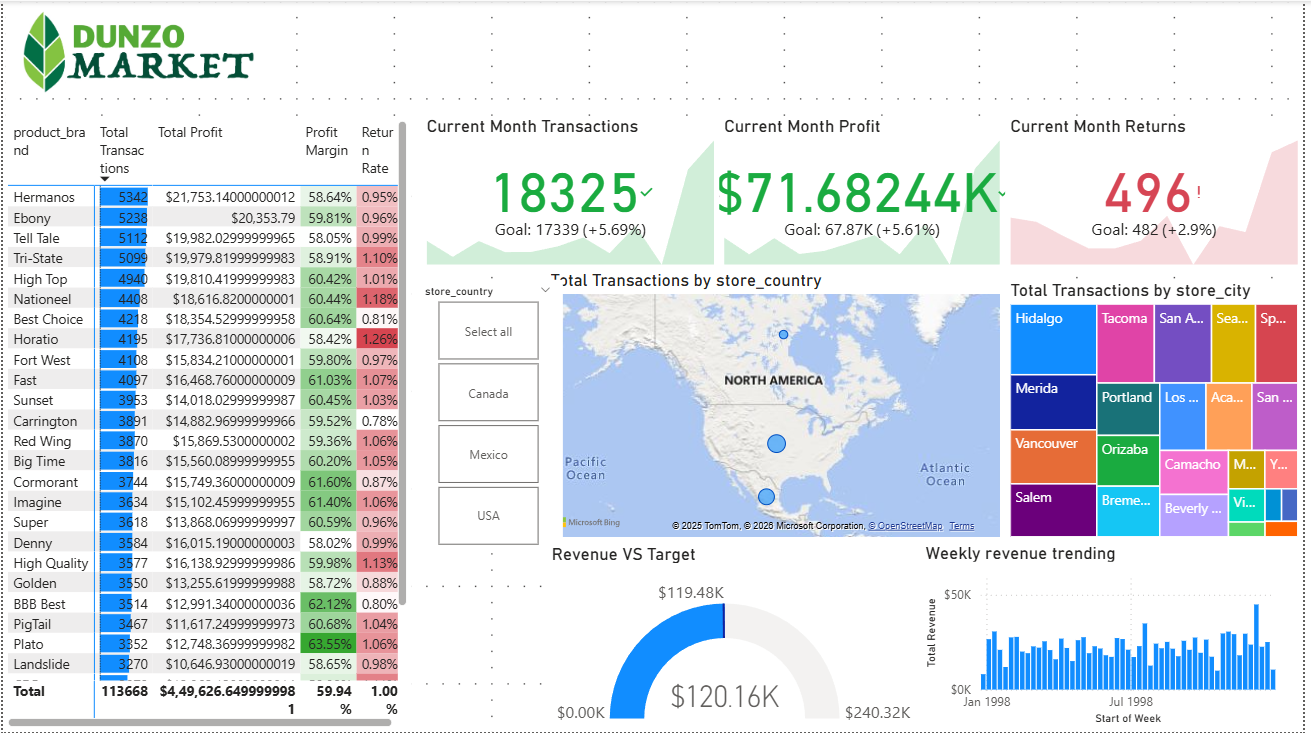

The page's visual inventory and layout, read from the dashboard file:
{"tool":"powerbi","page":{"name":"Topline Performance","canvas":[1280,720],"ordinal":0},"visuals":[{"type":"pivotTable","fields":{"Values":["Transactions_Data.Total Transactions","Transactions_Data.Total Profit","Transactions_Data.Profit Margin","Returns_Data.Return Rate"],"Rows":["Products.product_brand"]},"box":[0,113.1,402.7,606.9],"z":0},{"type":"image","box":[0,0,264.2,100.4],"z":1000},{"type":"kpi","title":"Current Month Transactions","fields":{"TrendLine":["Calendar.Start of Month"],"Goal":["Transactions_Data.Last Month Transactions"],"Indicator":["Transactions_Data.Total Transactions"]},"box":[412.5,113.1,293,151.6],"z":2000},{"type":"kpi","title":"Current Month Profit","fields":{"TrendLine":["Calendar.Start of Month"],"Indicator":["Transactions_Data.Total Profit"],"Goal":["Transactions_Data.Last Month Profit"]},"box":[705.5,113.1,281.4,151.6],"z":3000},{"type":"kpi","title":"Current Month Returns","fields":{"TrendLine":["Calendar.Start of Month"],"Indicator":["Returns_Data.Total Returns"],"Goal":["Returns_Data.Last Month Returns"]},"box":[987,113.1,293,151.6],"z":4000},{"type":"treemap","fields":{"Values":["Transactions_Data.Total Transactions"],"Group":["Stores.store_city","Stores.store_state","Stores.store_country"]},"box":[987,275,293,258.3],"z":5000},{"type":"map","fields":{"Size":["Transactions_Data.Total Transactions"],"Category":["Stores.store_country"]},"box":[534.6,264.7,452.4,268.6],"z":6000},{"type":"slicer","fields":{"Values":["Stores.store_country"]},"box":[402.2,274.4,149.2,267.7],"z":7000},{"type":"columnChart","title":"Weekly revenue trending","fields":{"Y":["Transactions_Data.Total Revenue"],"Category":["Calendar.Start of Week"]},"box":[903.5,533.3,376.5,185.1],"z":8000},{"type":"gauge","title":"Revenue VS Target","fields":{"Y":["Transactions_Data.Total Revenue"],"TargetValue":["Transactions_Data.Revenue Target"]},"box":[535,534,368,186],"z":9000}]}

Visuals, with their boxes in screenshot pixels (x1, y1, x2, y2), scaled from the page's 1280x720 canvas onto the 1311x733 screenshot:
pivotTable - Transactions_Data.Total Transactions x Transactions_Data.Total Profit: (left=0, top=115, right=412, bottom=732)
image: (left=0, top=0, right=271, bottom=102)
"Current Month Transactions" kpi: (left=422, top=115, right=723, bottom=269)
"Current Month Profit" kpi: (left=723, top=115, right=1011, bottom=269)
"Current Month Returns" kpi: (left=1011, top=115, right=1310, bottom=269)
treemap - Transactions_Data.Total Transactions x Stores.store_city: (left=1011, top=280, right=1310, bottom=543)
map - Transactions_Data.Total Transactions x Stores.store_country: (left=548, top=269, right=1011, bottom=543)
slicer - Stores.store_country: (left=412, top=279, right=565, bottom=552)
"Weekly revenue trending" columnChart: (left=925, top=543, right=1310, bottom=731)
"Revenue VS Target" gauge: (left=548, top=544, right=925, bottom=732)
